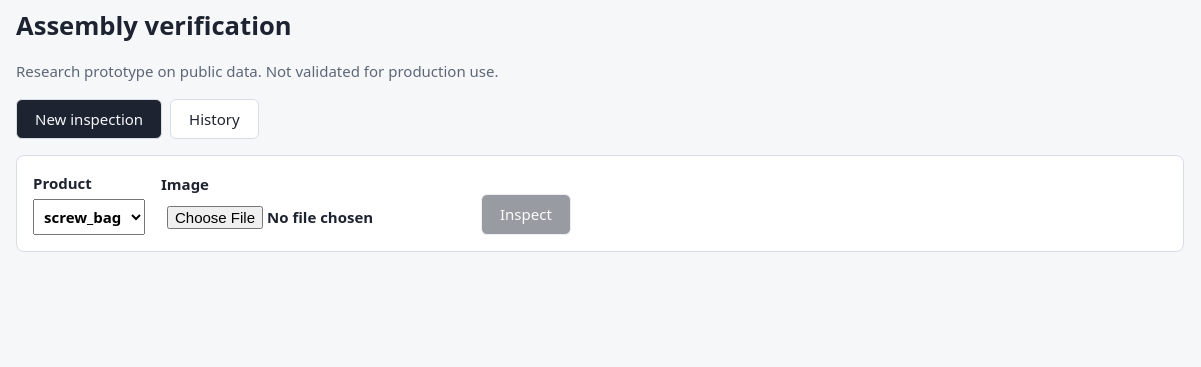
Test: History › shows an empty state
Click the button "History" at (214, 119), box top-left (170, 99), bottom-right (259, 139)
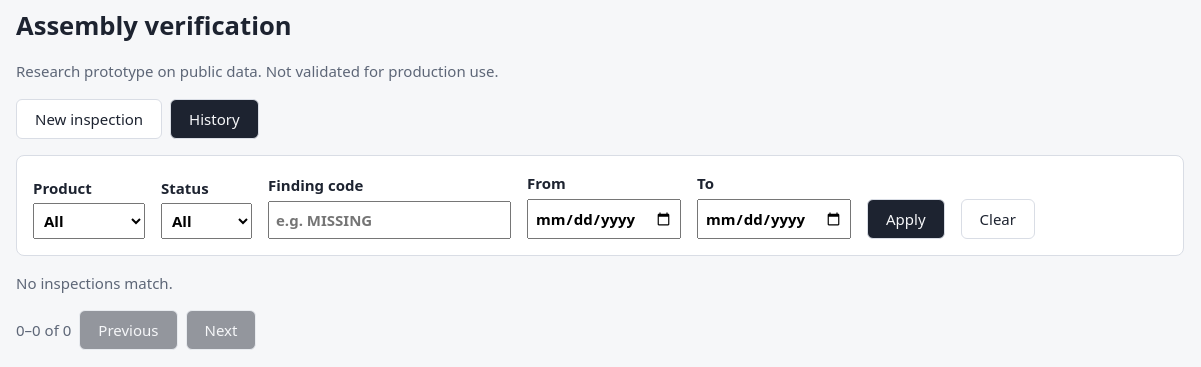
Expected: the text "No inspections match." is shown, top-left (16, 273), bottom-right (173, 293)
Expected: the text "0–0 of 0" is shown, top-left (16, 319), bottom-right (71, 341)
